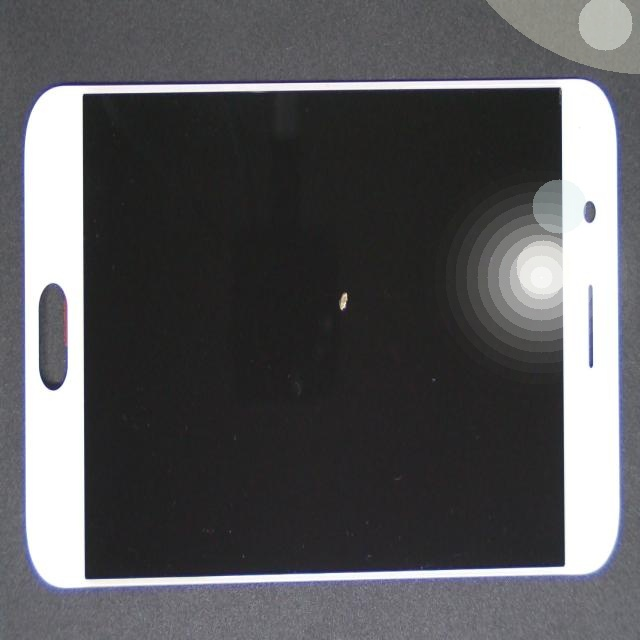stain: (170, 100, 494, 437)
